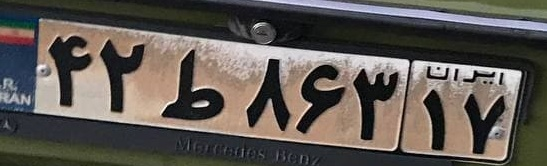character: (151, 43, 231, 122), (93, 32, 149, 118), (346, 57, 399, 143), (291, 56, 347, 137), (237, 54, 291, 134), (43, 25, 94, 109), (457, 86, 507, 157), (419, 83, 456, 153)
